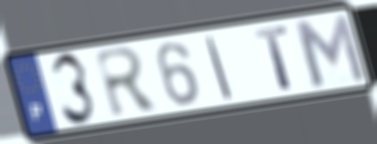3: (48, 50, 100, 127)
6: (154, 40, 203, 108)
I: (203, 34, 235, 101)
M: (290, 12, 370, 90)
R: (92, 44, 163, 120)
T: (252, 24, 295, 92)
